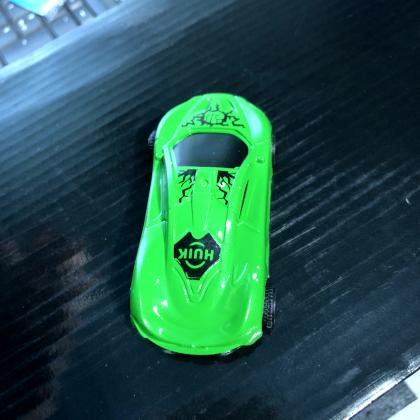Car: (127, 93, 274, 359)
